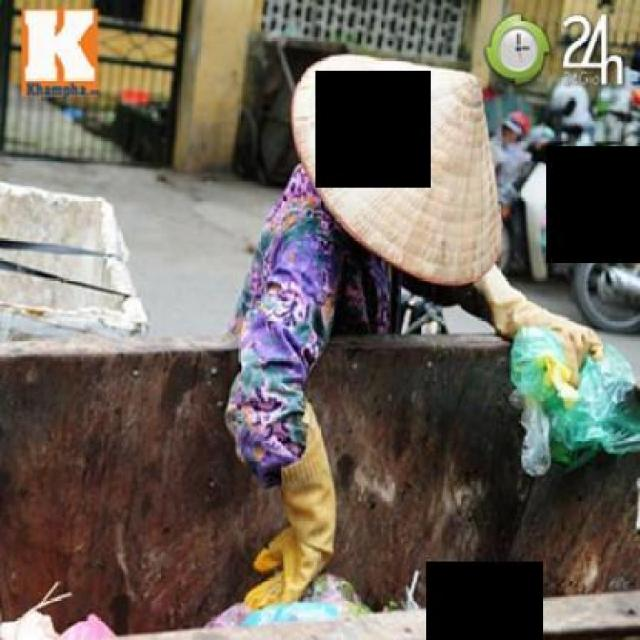plastic bag: (495, 322, 637, 483)
